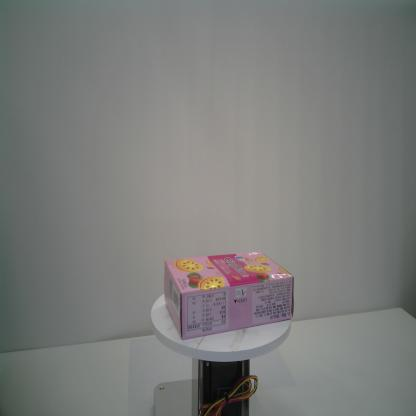Dessert: (163, 250, 295, 342)
